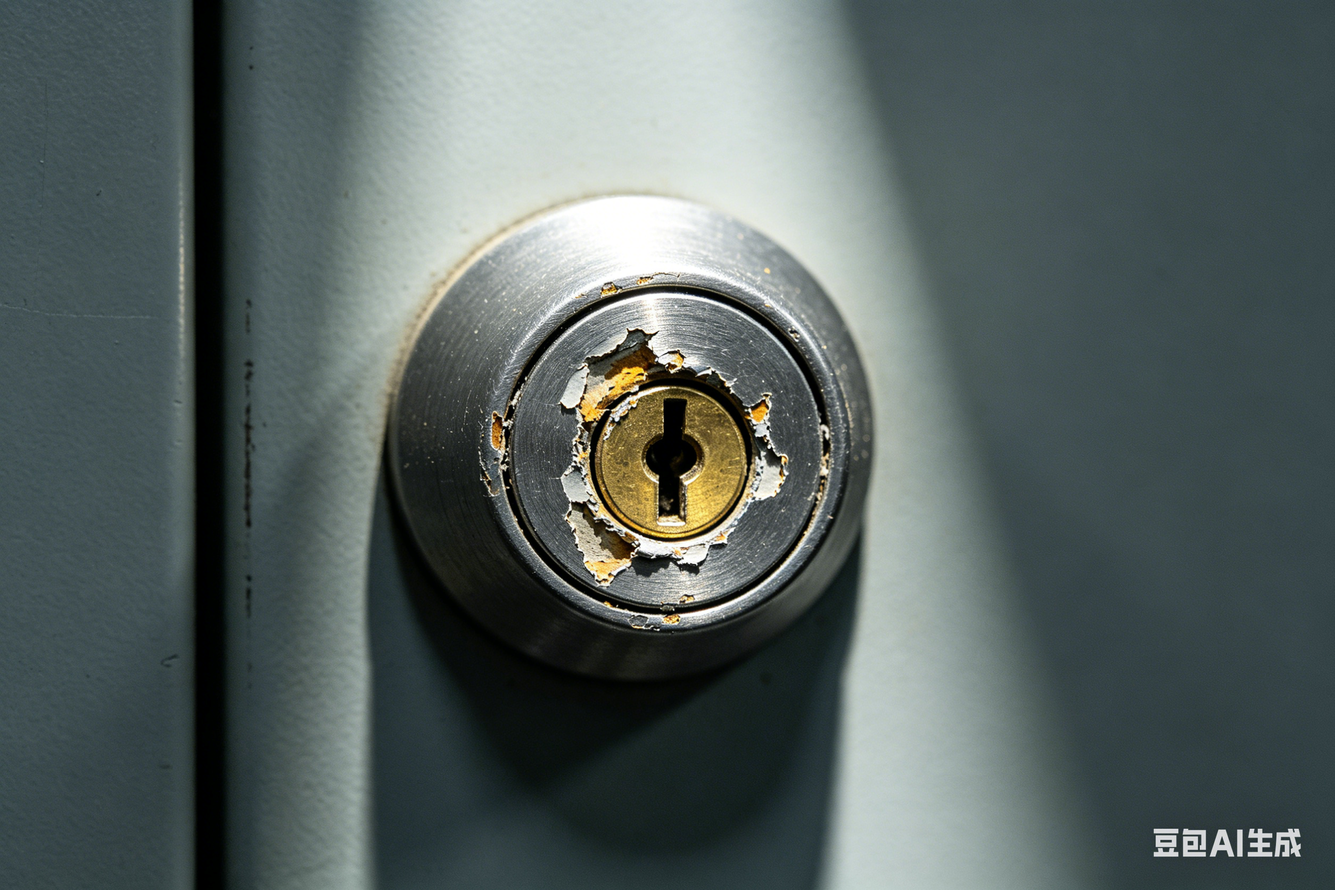BadLock: (532, 327, 817, 569)
